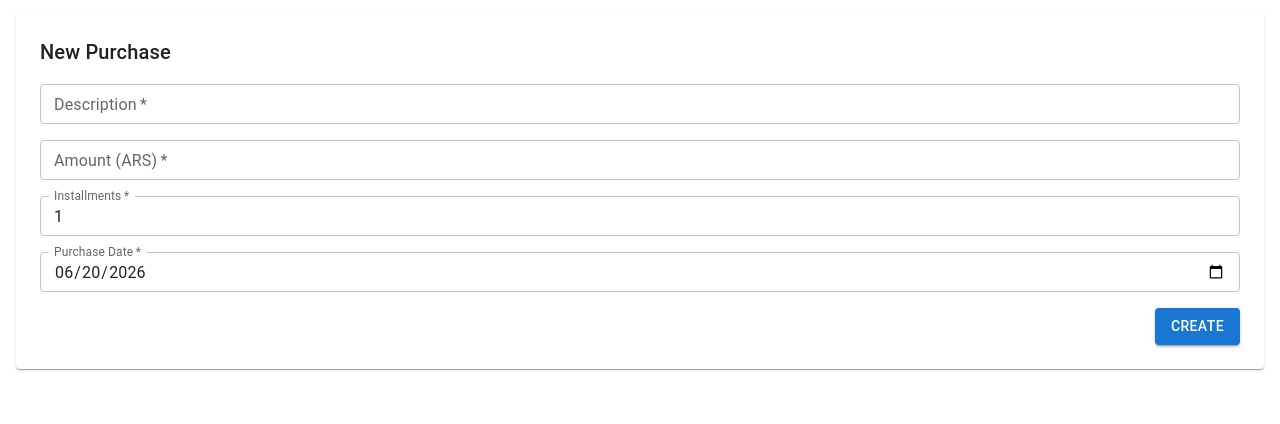
it: PurchaseForm › shows validation error for empty description
What coordinates should you click on to do the following:
click the button "Create"
I would click on:
 (1197, 326)
Its box is x1=1155 y1=308 x2=1240 y2=344.
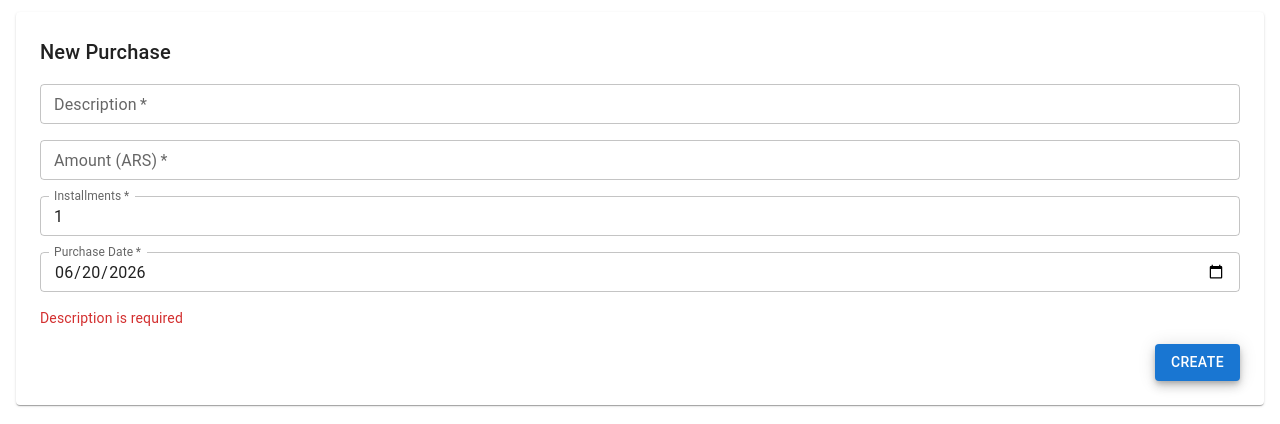
Expected: the text "Description is required" is shown, x1=40 y1=310 x2=183 y2=326
